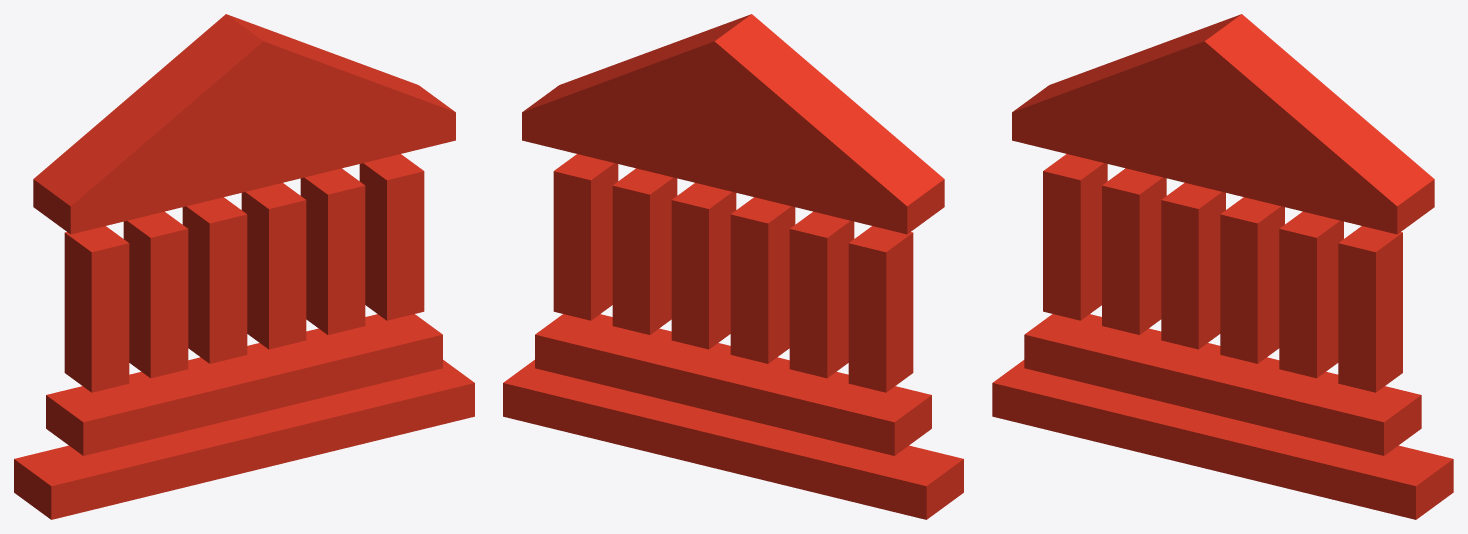
File: Icon_Bank_01.fbx
The picture shows the model from 3 angles, left to right: view 1: azimuth 30°, elevation 25°; view 2: azimuth 150°, elevation 25°; view 3: azimuth 330°, elevation 25°; orthographic projection.
Visible parts, largest first — view 1: Icon_Bank_01; view 2: Icon_Bank_01; view 3: Icon_Bank_01.
Boxes of the visible parts, x1,y1,x2,y2 form: Icon_Bank_01: [14, 14, 474, 519]; Icon_Bank_01: [503, 14, 963, 519]; Icon_Bank_01: [992, 14, 1453, 519].
Bounding box in the file's own units: 78.97 × 76.06 × 12.06.
